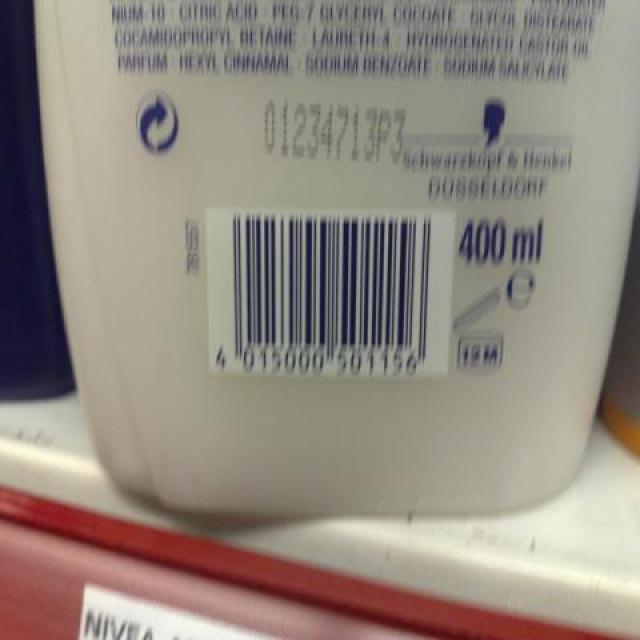Barcode: (206, 207, 454, 380)
